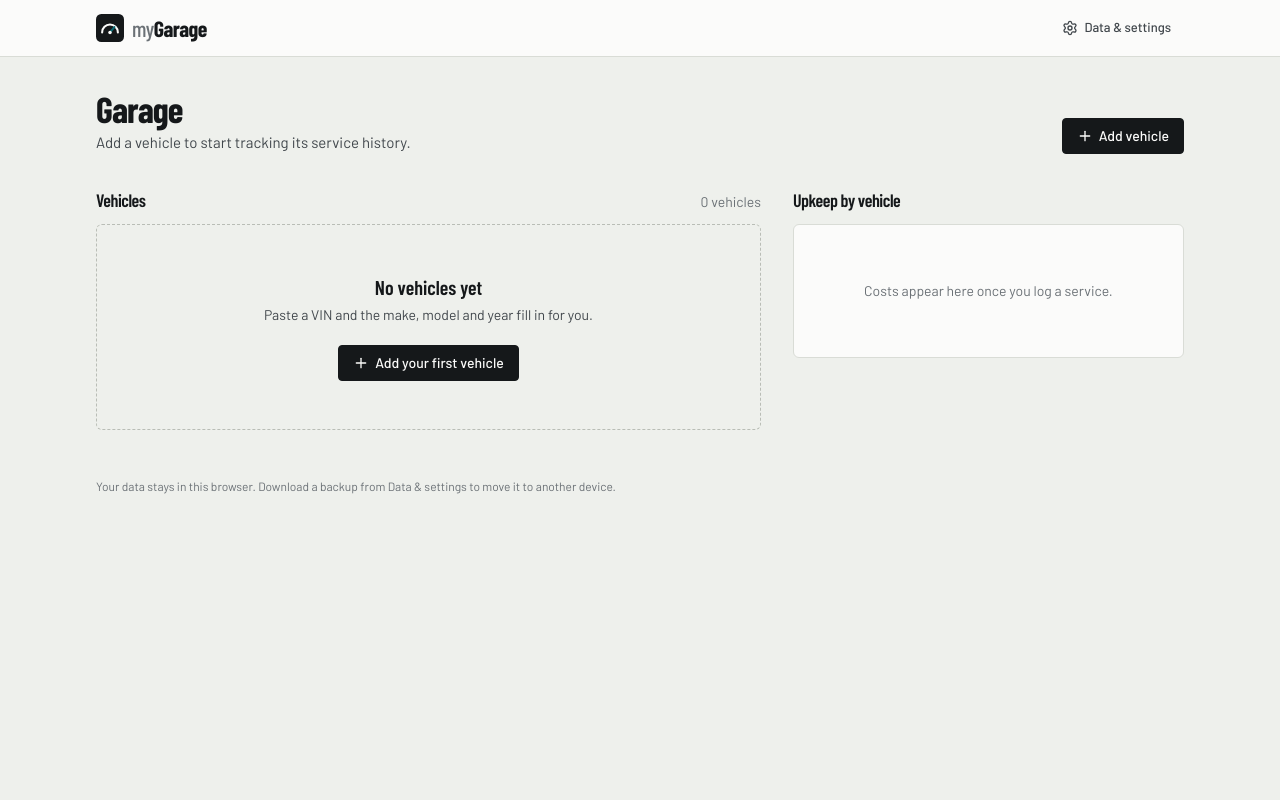
it: App › validates the vehicle form
Step 1. Click the button "Add your first vehicle" → (428, 362), box left=338, top=344, right=519, bottom=380
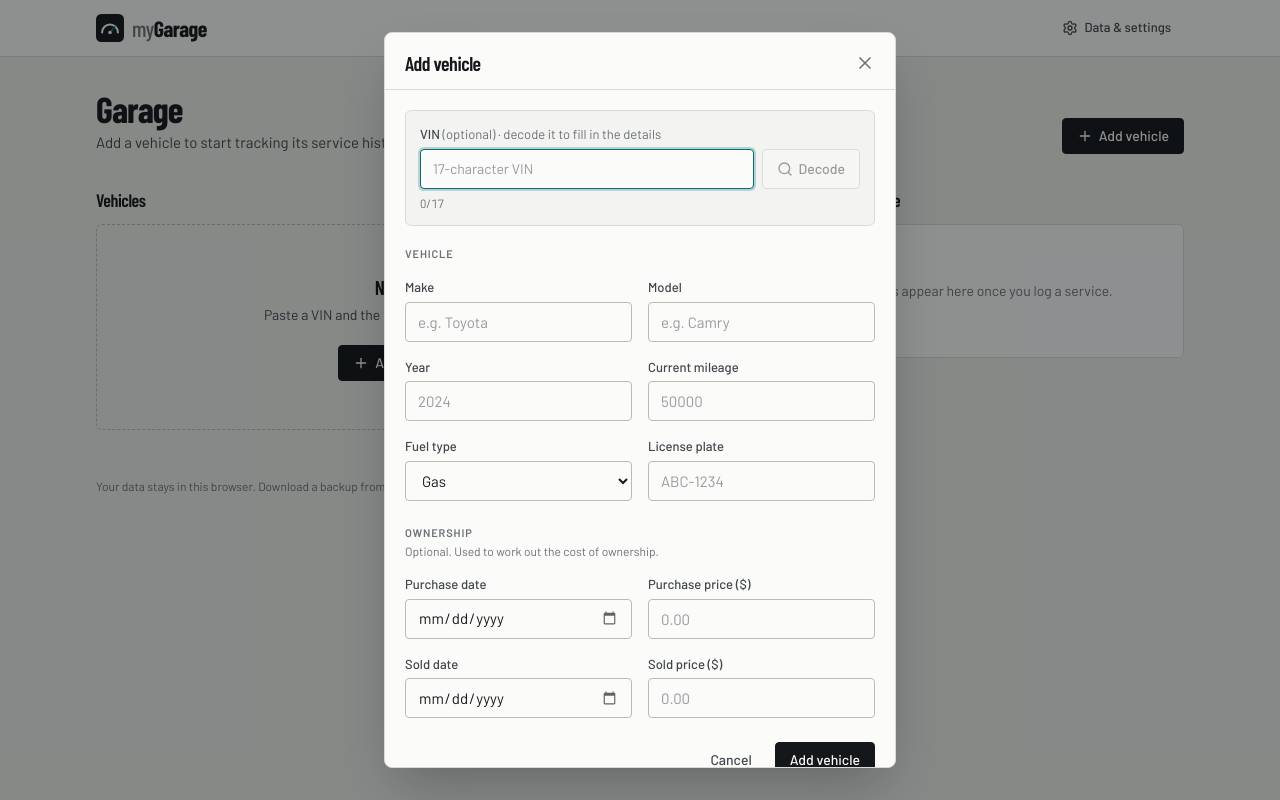
Step 2. Type "1850" into the number field labelled "Year" → (518, 401), box left=405, top=381, right=632, bottom=421
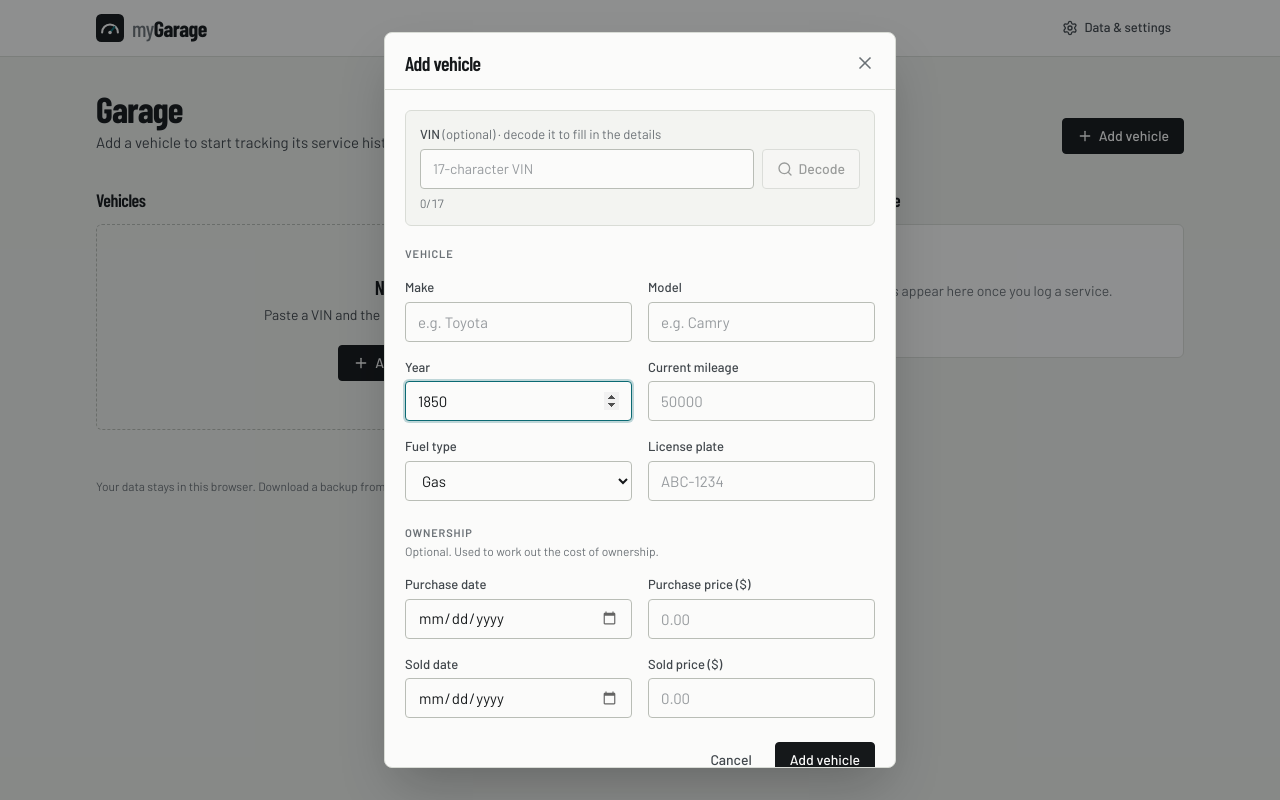
Step 3. Click the button "Add vehicle" → (825, 760), box left=775, top=742, right=875, bottom=778
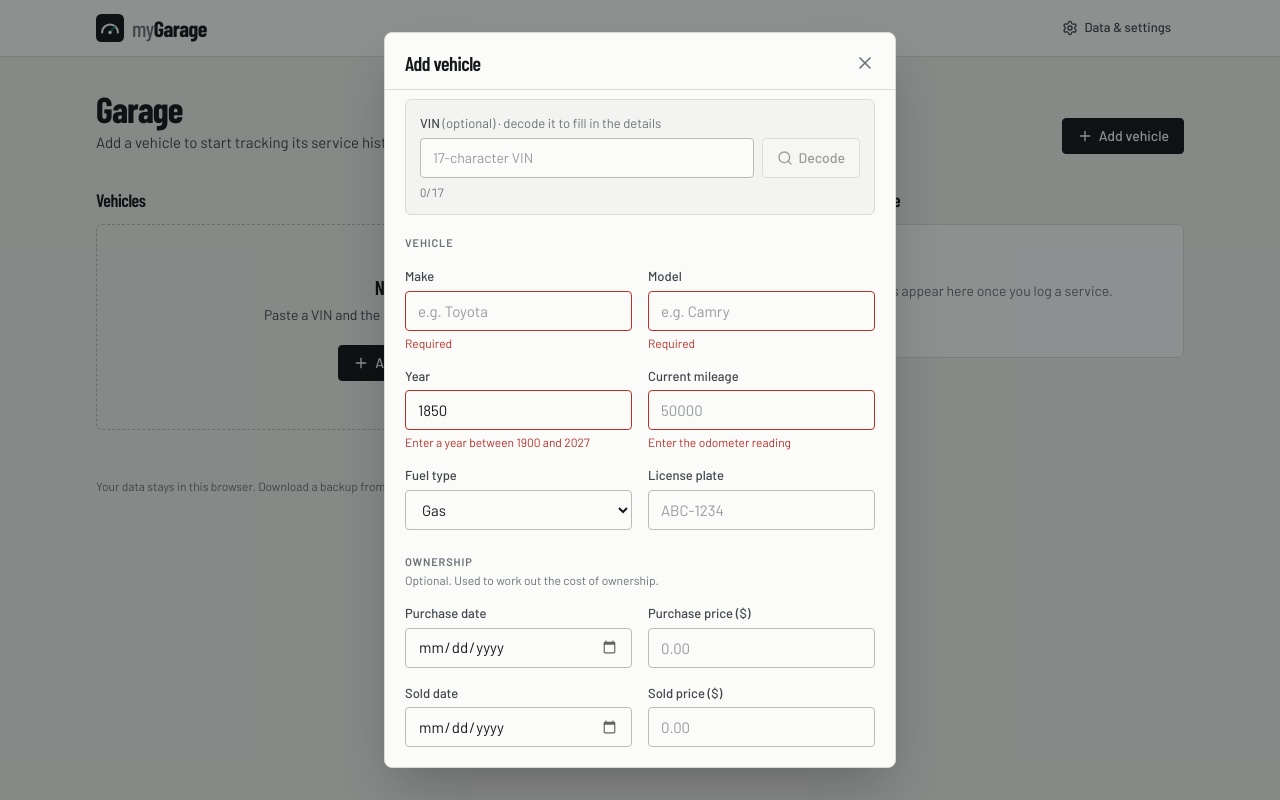
Expected: the text "Required" is shown 2 times, left=405, top=336, right=452, bottom=350; left=648, top=336, right=695, bottom=350
Expected: the text "Enter a year between 1900 and 2027" is shown, left=405, top=435, right=590, bottom=449
